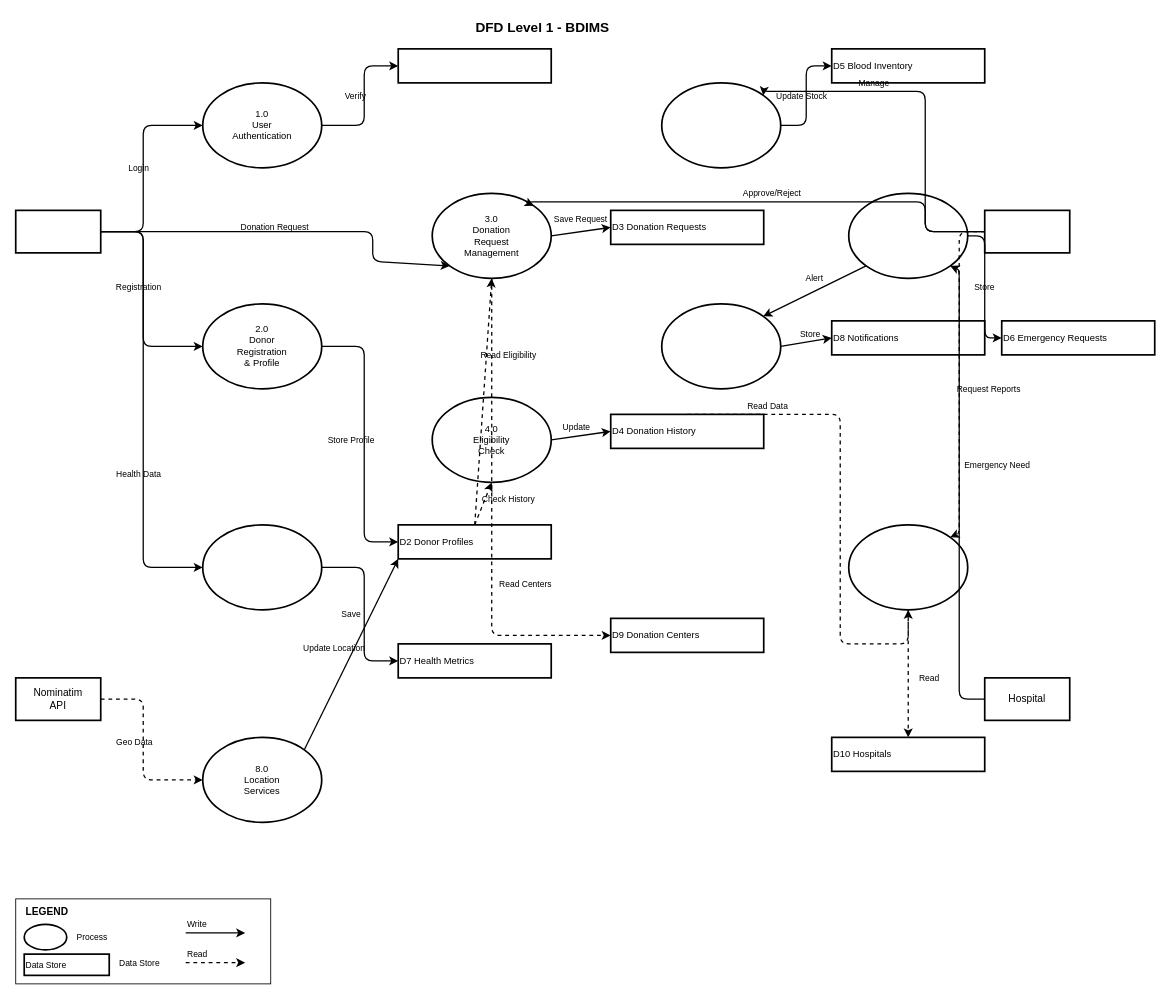
The diagram is 1170 pixels wide and 999 high, and some of its shapes have lost their labels. Here are the shapes that lost their labels. From the top down, the centre of each, then its label:
(474,65): D1 User Data
(720,125): 5.0 Blood Inventory Management
(57,231): Donor
(907,235): 6.0 Emergency Request Handling
(1026,231): Admin
(720,346): 9.0 Notification Management
(261,567): 7.0 Health Metrics Tracking
(907,567): 10.0 Reports & Analytics
